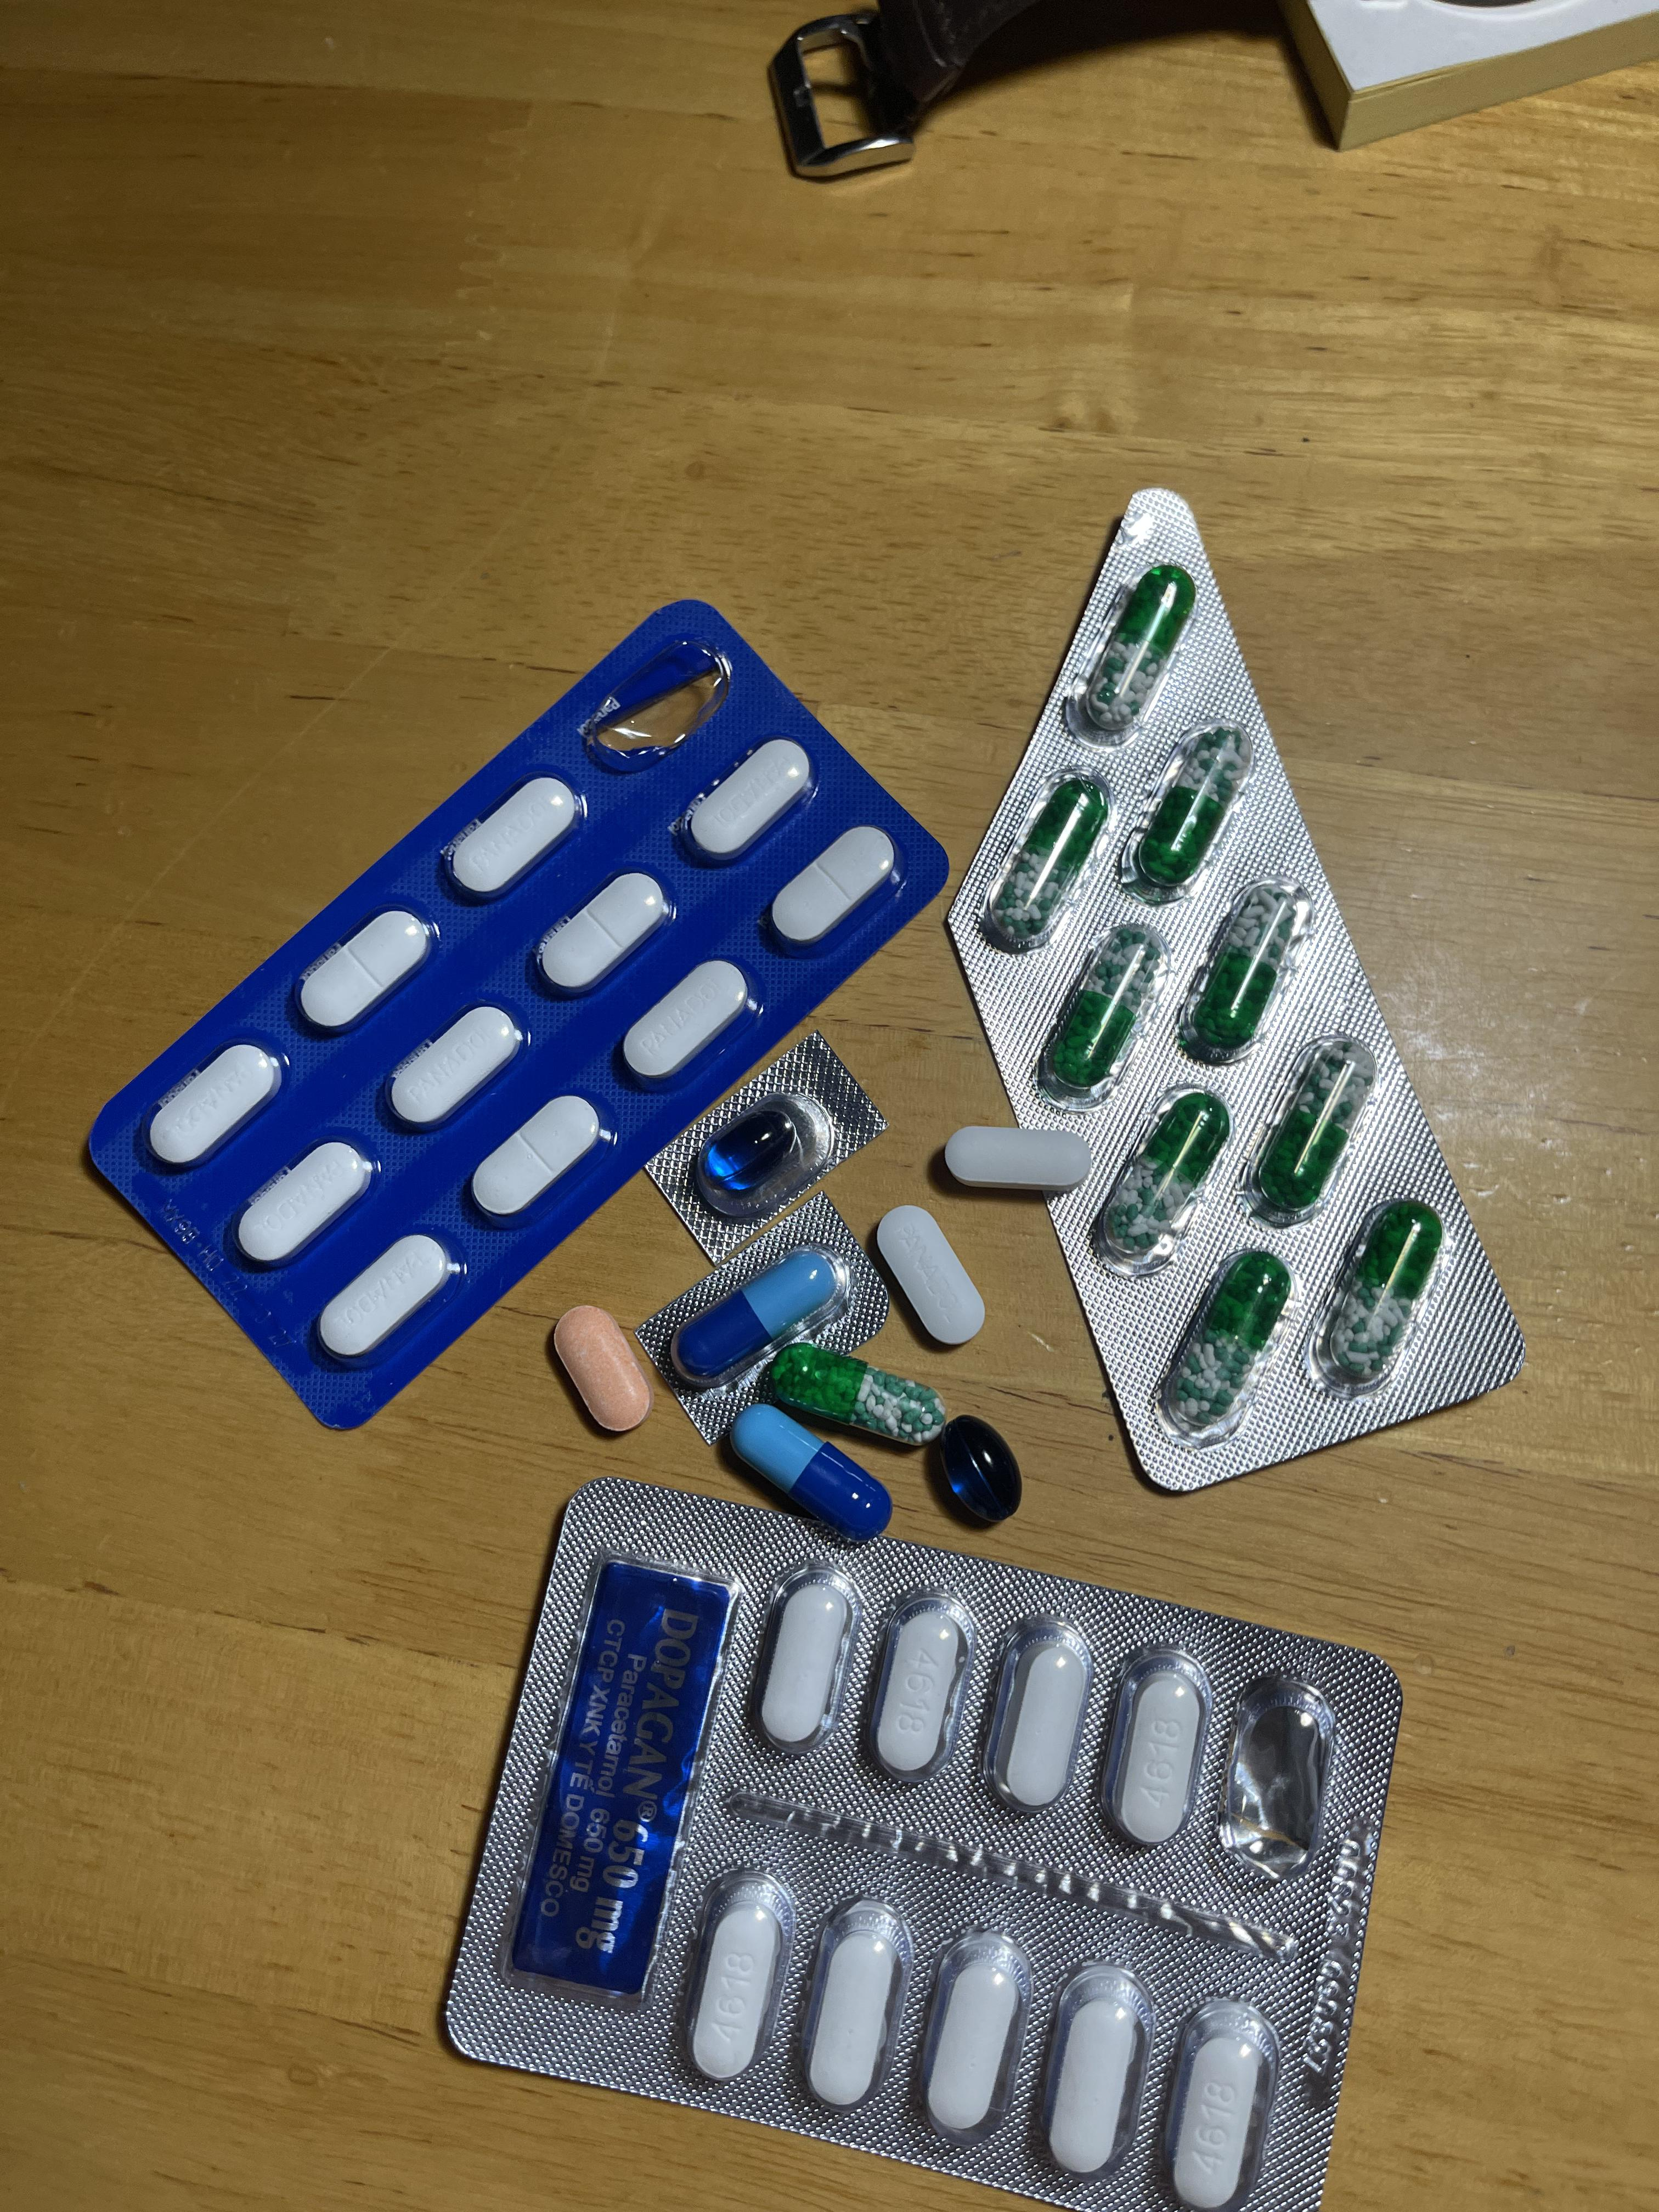Lincomyxin_500mg: (936, 1413, 1025, 1524), (702, 1109, 798, 1190)
Loratadine_10mg: (551, 1305, 653, 1433)
Paracetamol_350mg: (315, 1233, 453, 1364), (444, 775, 584, 904), (296, 906, 434, 1033), (235, 1141, 373, 1268), (385, 1005, 523, 1130), (680, 737, 812, 866), (620, 958, 755, 1085), (148, 1042, 282, 1169), (471, 1094, 606, 1219), (765, 824, 894, 953), (538, 871, 671, 995), (875, 1202, 986, 1345)
Paracetamol_500mg: (913, 1925, 1037, 2144), (676, 1864, 795, 2085), (1155, 1996, 1277, 2210), (793, 1892, 910, 2111), (1033, 1959, 1150, 2175), (1094, 1641, 1209, 1848), (863, 1587, 978, 1785), (1000, 1635, 1087, 1808), (762, 1581, 849, 1742), (943, 1125, 1087, 1195)
Paracetamol_650mg: (1155, 1251, 1298, 1446), (1309, 1200, 1446, 1397), (1239, 1036, 1380, 1221), (1178, 883, 1316, 1068), (1089, 1089, 1229, 1268), (1073, 564, 1197, 744), (1037, 923, 1162, 1099), (1126, 728, 1255, 897), (986, 773, 1110, 946), (769, 1339, 946, 1446)
pill: (669, 1242, 840, 1390), (734, 1407, 894, 1538)
